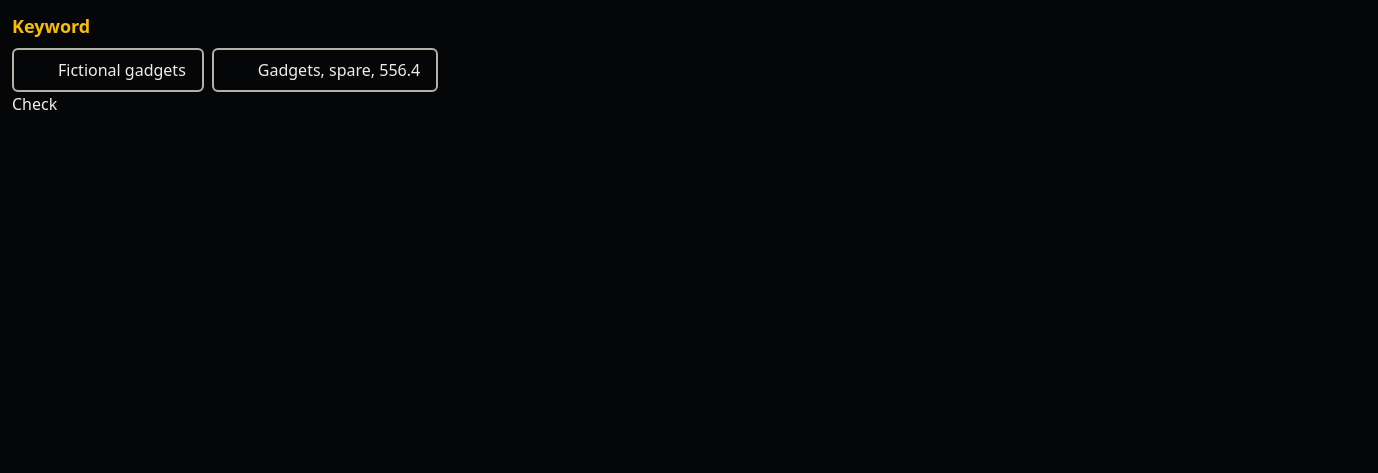
StepFlow under Index Keyword Lookup › keeps Check disabled until the latest pick ends its path
Expected: the button "Check" is disabled, x1=12 y1=92 x2=57 y2=116
Click the button "Fictional gadgets" at x=108, y=70, box x1=12 y1=48 x2=204 y2=92
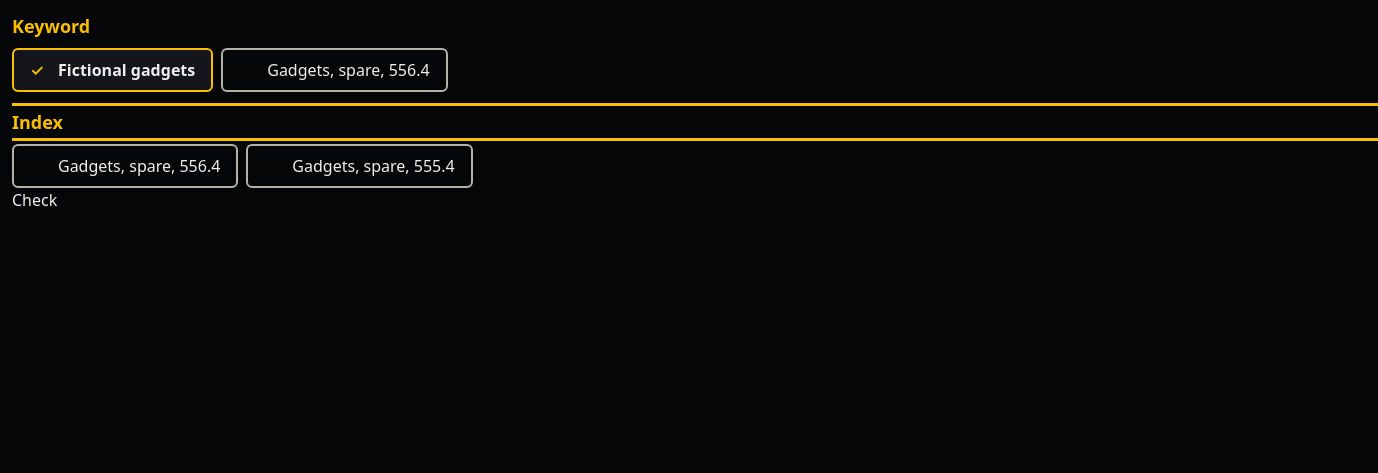
Expected: the button "Check" is disabled, x1=12 y1=188 x2=57 y2=212
Click the button "Gadgets, spare, 555.4" at x=360, y=166, box x1=246 y1=144 x2=473 y2=188
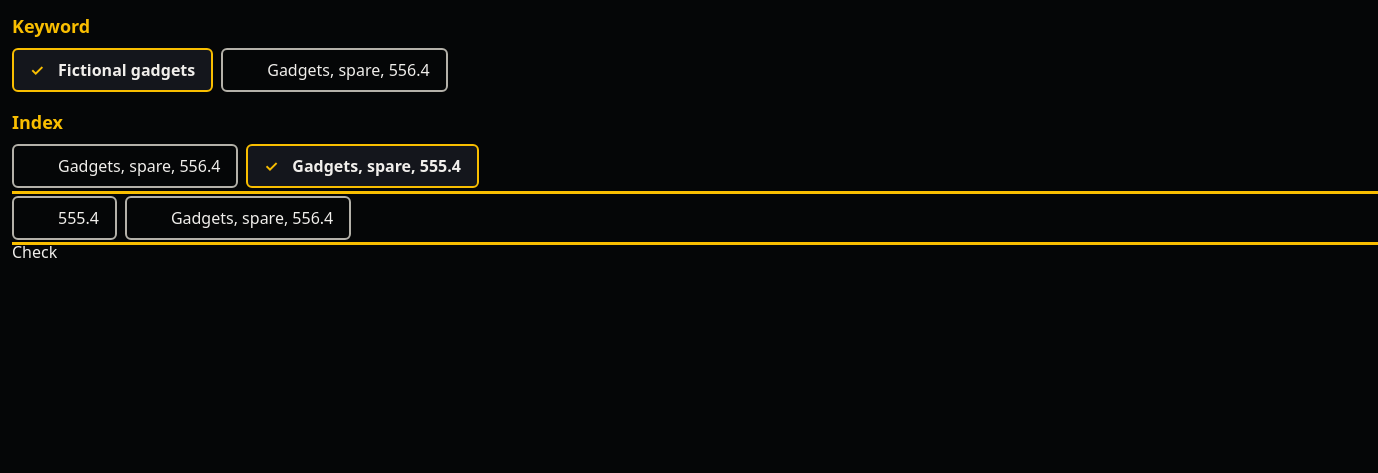
Expected: the button "Check" is disabled, x1=12 y1=240 x2=57 y2=264
Click the button "555.4" at x=64, y=218, box x1=12 y1=196 x2=117 y2=240
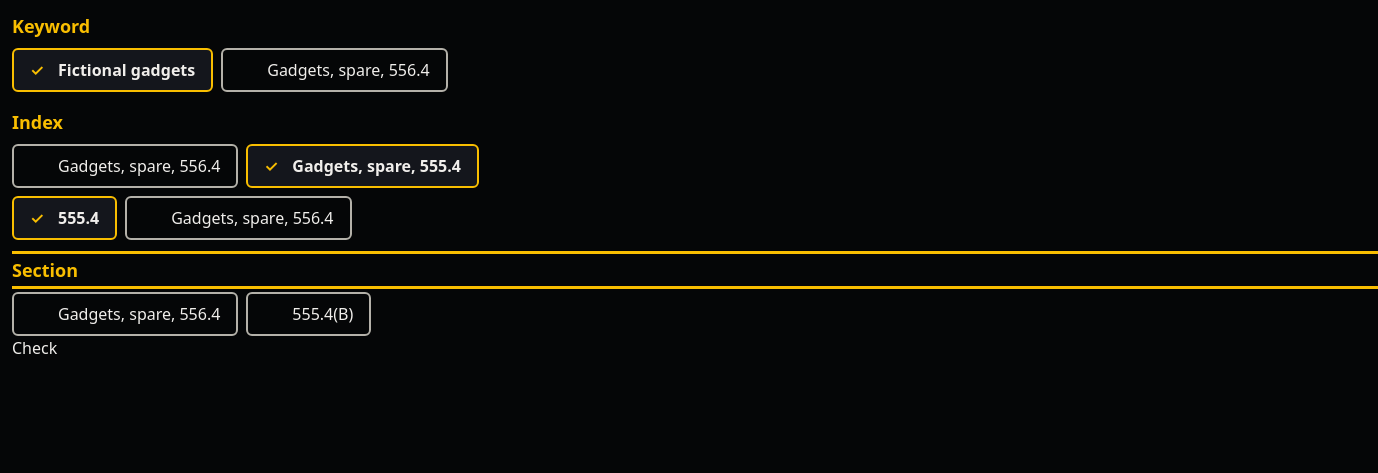
Expected: the button "Check" is disabled, x1=12 y1=336 x2=57 y2=360
Click the button "555.4(B)" at x=309, y=314, box x1=246 y1=292 x2=371 y2=336
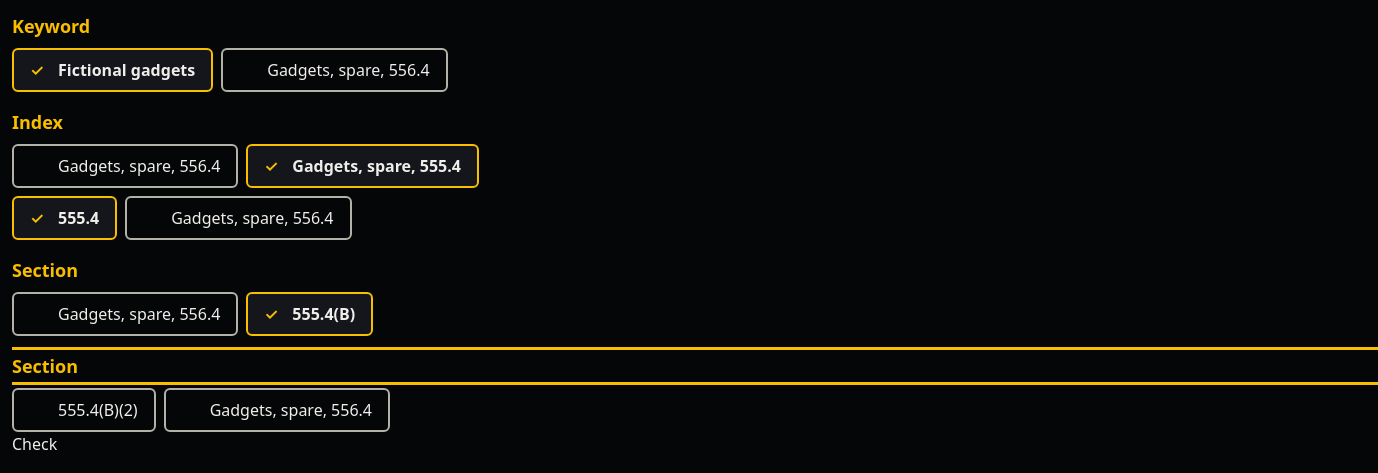
Expected: the button "Check" is disabled, x1=12 y1=432 x2=57 y2=456
Click the button "555.4(B)(2)" at x=84, y=410, box x1=12 y1=388 x2=156 y2=432
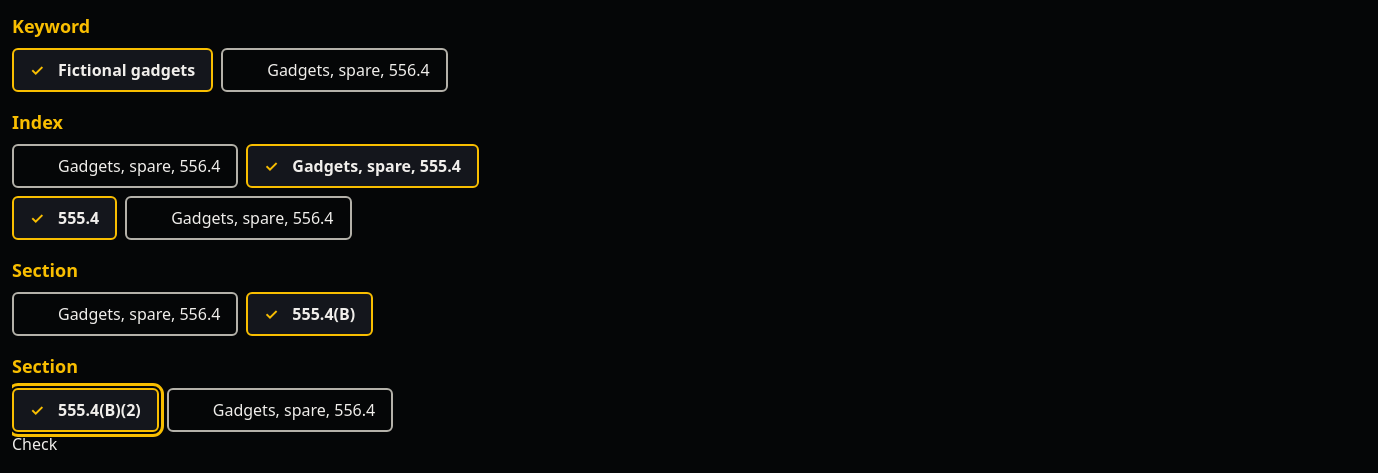
Expected: the button "Check" is enabled, x1=12 y1=432 x2=57 y2=456
Click the button "✓ Fictional gadgets" at x=113, y=70, box x1=12 y1=48 x2=213 y2=92
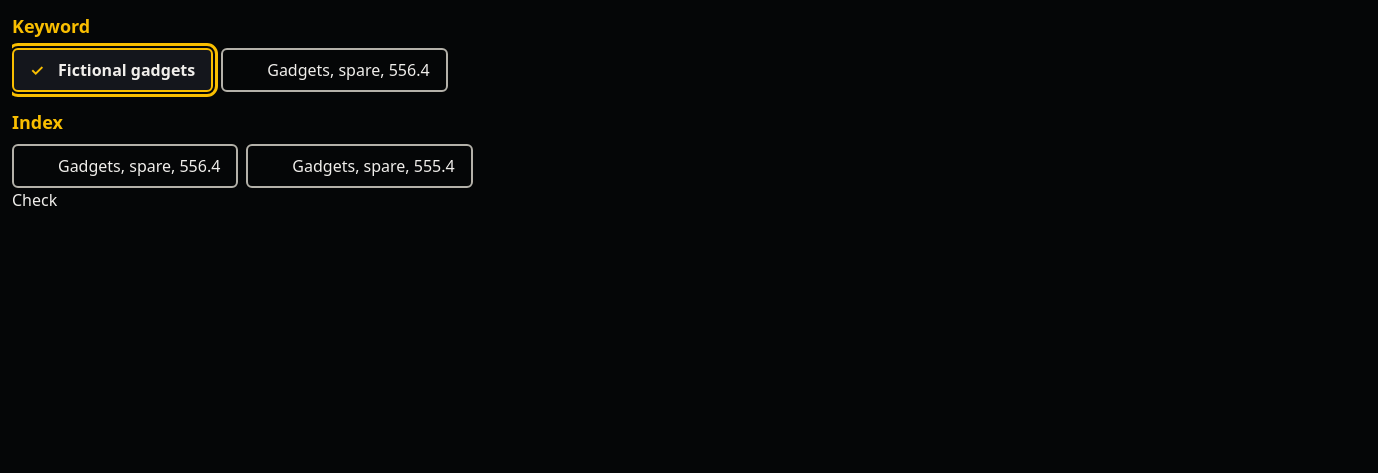
Expected: the button "Check" is disabled, x1=12 y1=188 x2=57 y2=212
